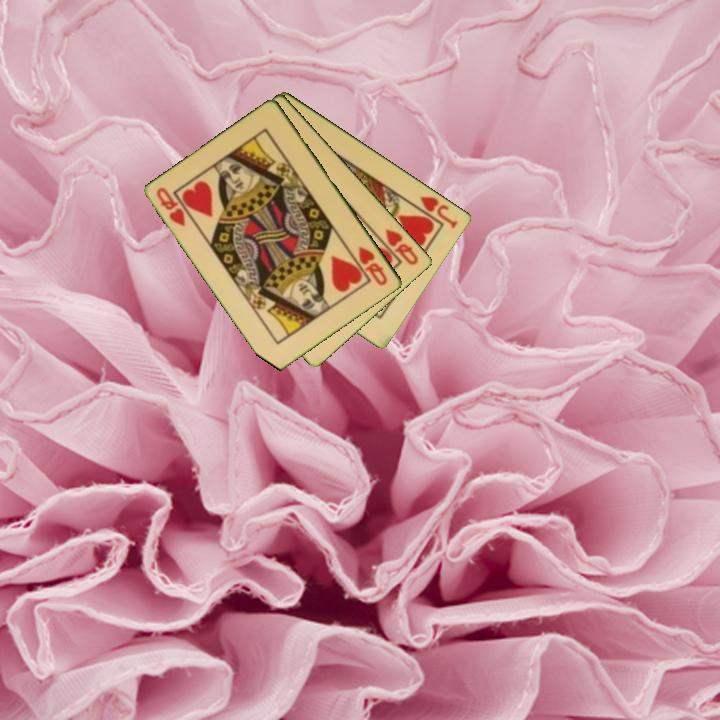Jh: (408, 192, 461, 231)
Qh: (382, 225, 422, 268), (355, 243, 391, 289), (153, 184, 189, 230)
